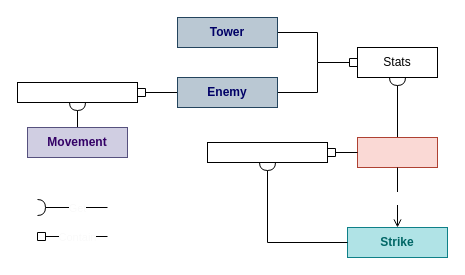
This 465x275 diagram has some shape labels left out. The shapes that lost their labels are listed below. From the top down, each one's centre as x and y in pixels, then its label:
the point at 77,92: Movement Speed
the point at 267,152: Combat Layer
the point at 397,152: Caster
